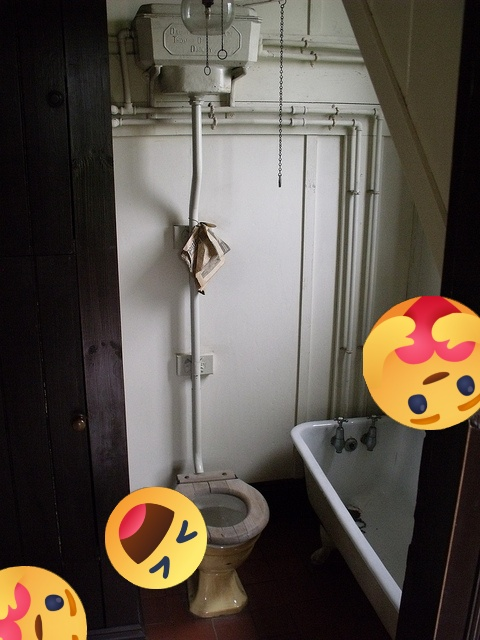care: (363, 296, 480, 430), (0, 566, 87, 640)
haha: (105, 487, 207, 589)
